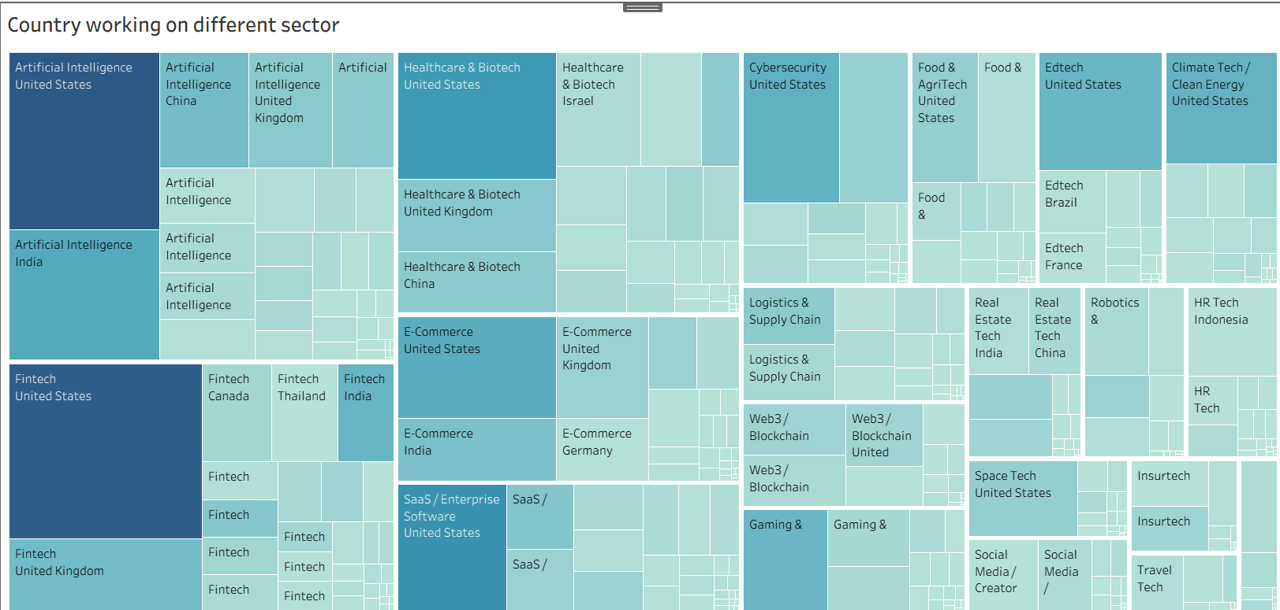

This screenshot's page, from the dashboard's own definition file:
{"tool":"tableau","page":{"name":"Dashboard 1","canvas":[1000,1000],"units":"permille","ordinal":0},"visuals":[{"type":"worksheet","title":"Investor number, sector , country","mark":"Automatic","rows":["startup_name"],"cols":["num_investors"],"box":[5.3,9.3,989.3,981.4]}]}

Visuals, with their boxes on the dashboard's canvas, which has no fixed pixel size, in thousandths of its width and height (x1, y1, x2, y2). These are canvas units, not pixel positions in the 1280x610 screenshot, which may show the page scaled, cropped or inside an application window:
"Investor number, sector , country" worksheet: detection(5, 9, 995, 991)
